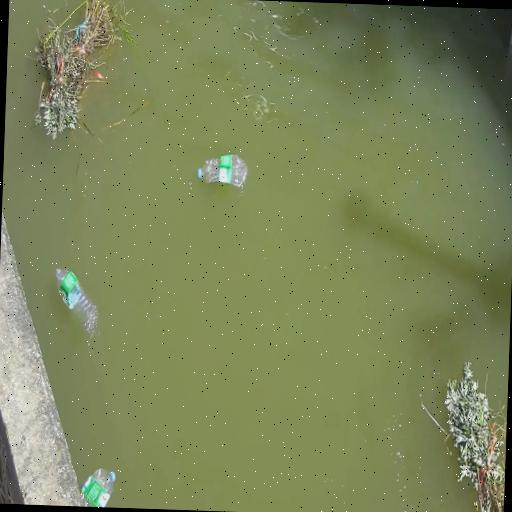plastic: (56, 269, 97, 336), (197, 154, 247, 187), (81, 469, 114, 506), (197, 168, 201, 178)
twig: (32, 0, 136, 138), (445, 362, 506, 512)
